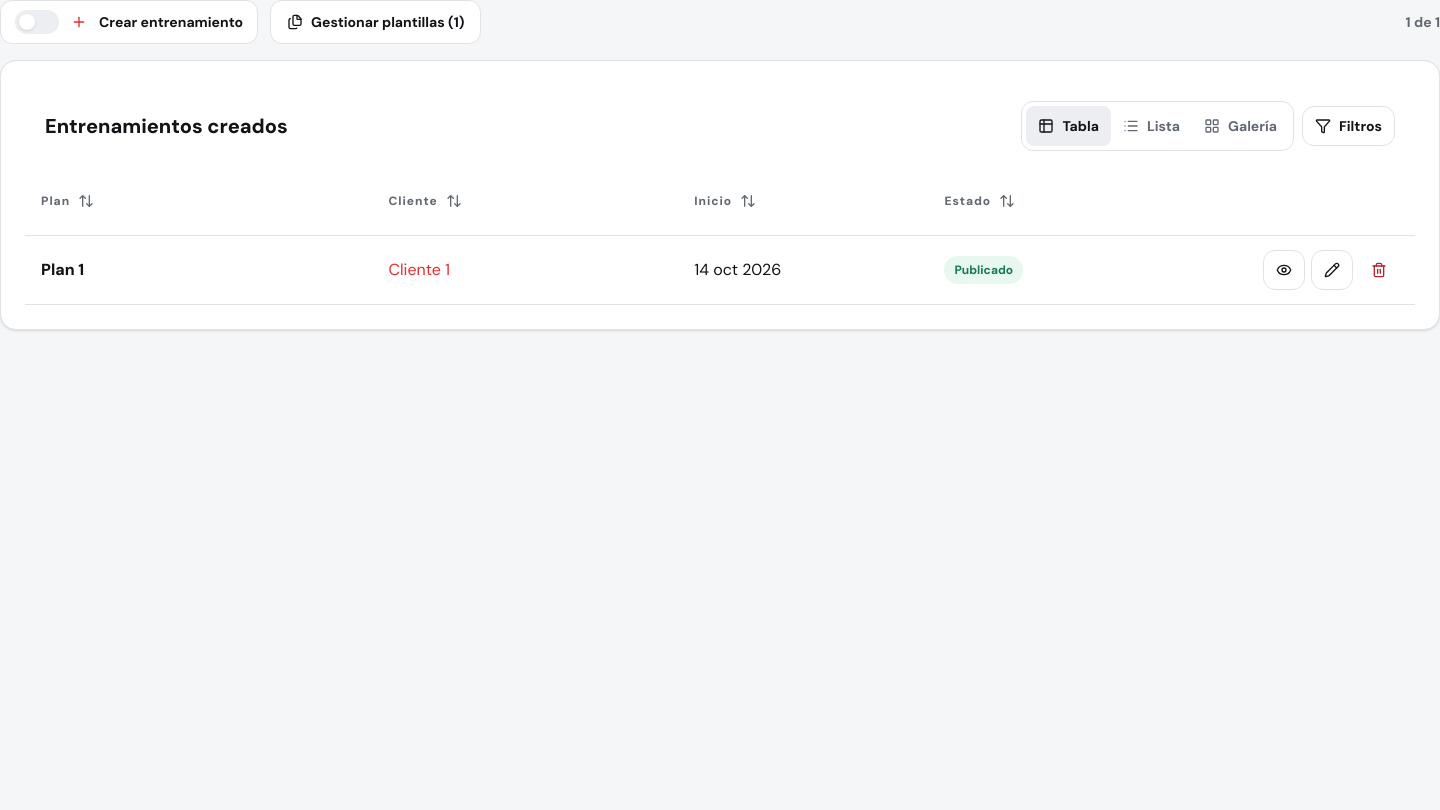
Scenario: AssignmentsManager › permite editar y eliminar las plantillas desde su biblioteca interna
Click the button "Gestionar plantillas (1)": click(376, 22) [270, 0, 482, 44]
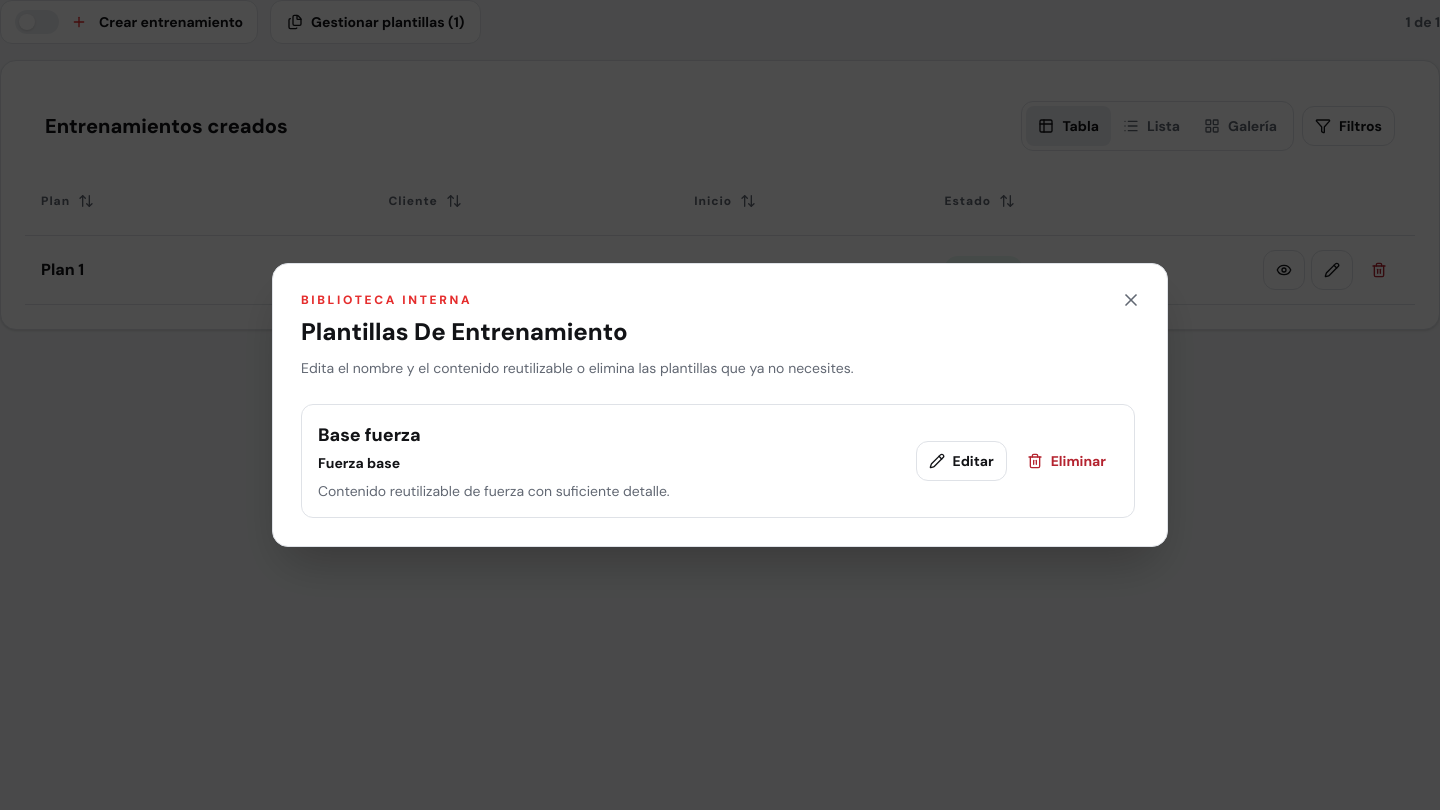
Expected: the dialog "plantillas de entrenamiento" shows "Base fuerza", [318, 423, 421, 447]
Click the button "Editar": click(961, 461) [916, 441, 1007, 481]
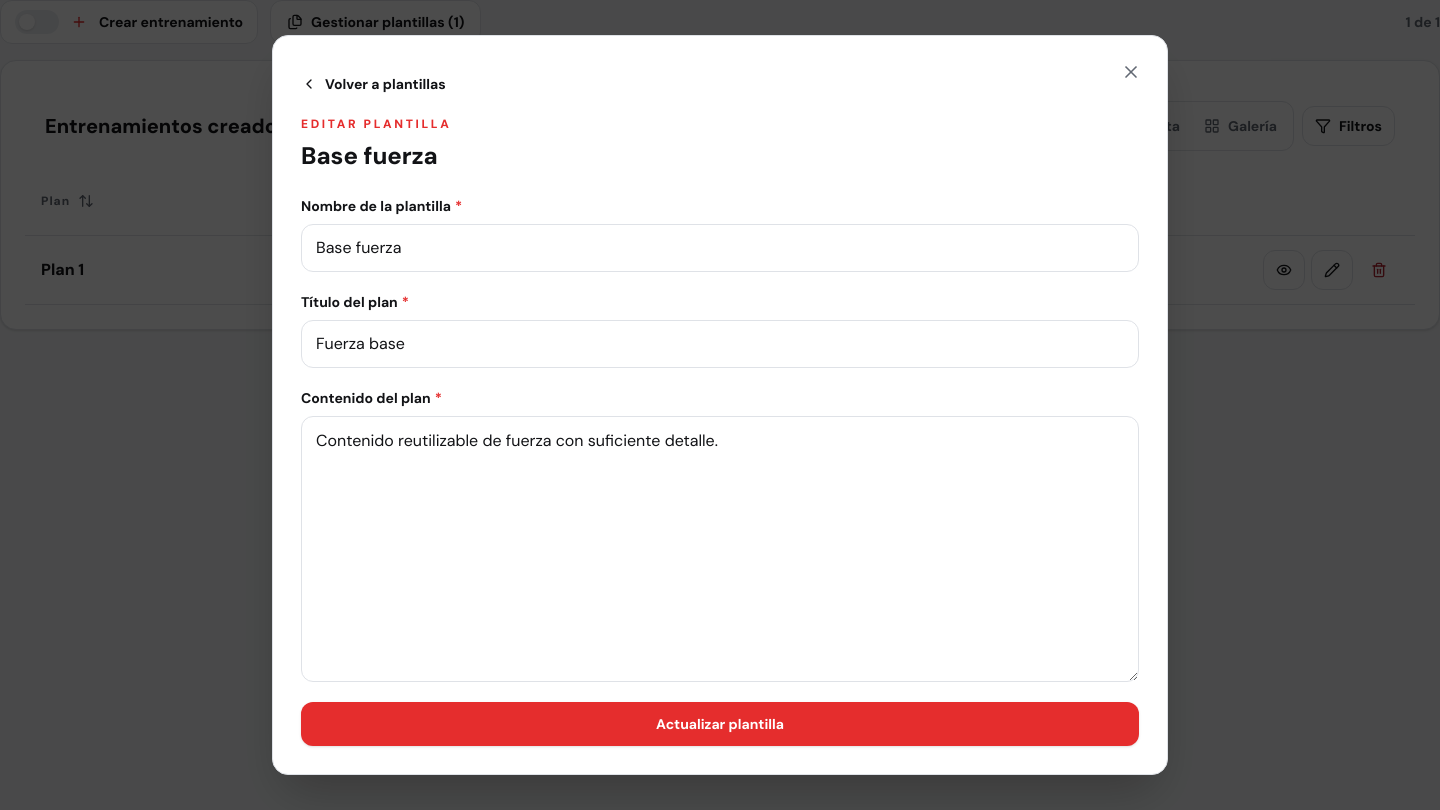
Expected: the dialog "Base fuerza" is shown, [272, 35, 1168, 775]
Expected: the field labelled "Nombre de la plantilla" holds "Base fuerza", [301, 224, 1139, 272]
Expected: the field labelled "Título del plan" holds "Fuerza base", [301, 320, 1139, 368]
Click the button "Volver a plantillas": click(373, 84) [301, 64, 446, 104]
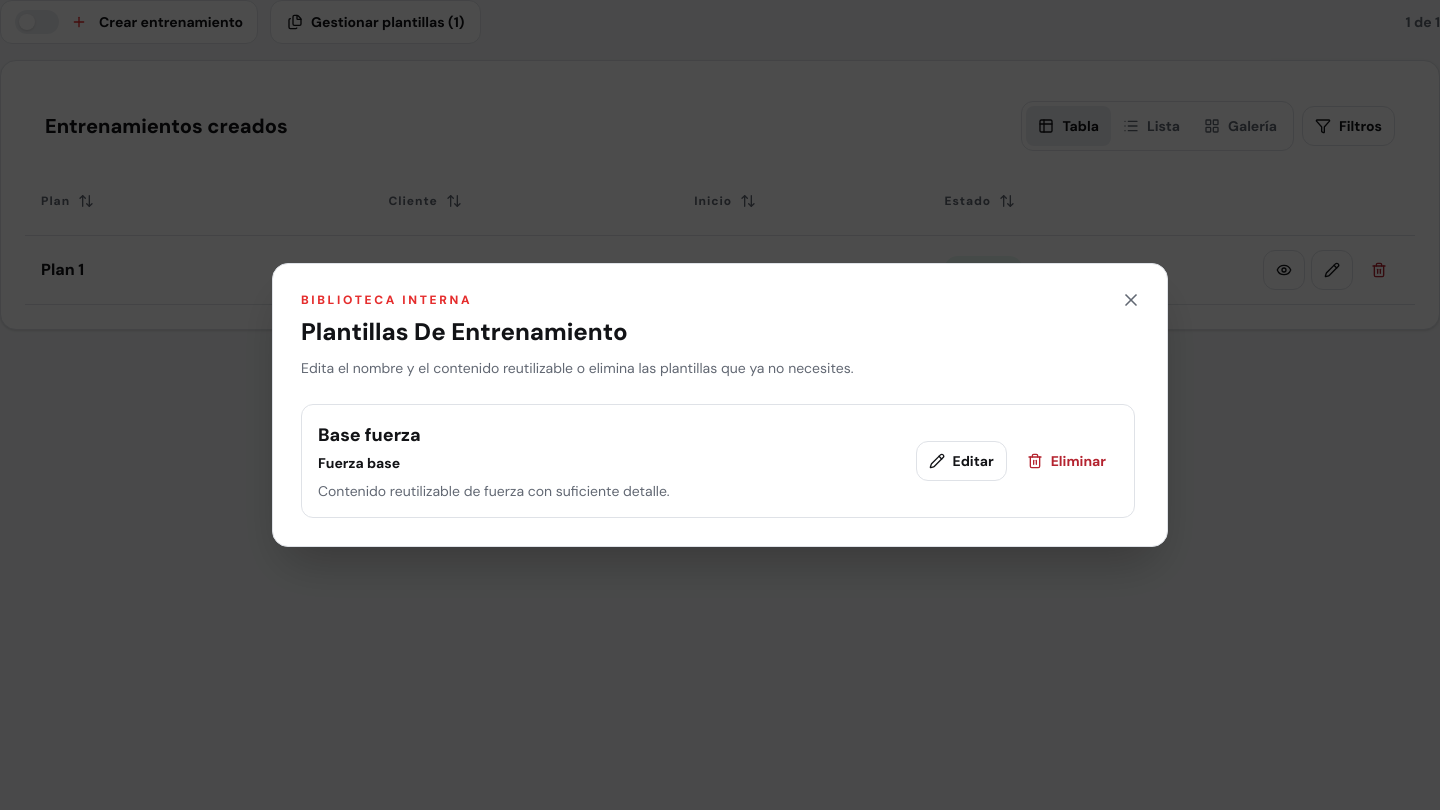
Click the button "Eliminar": click(1066, 461) [1015, 441, 1118, 481]
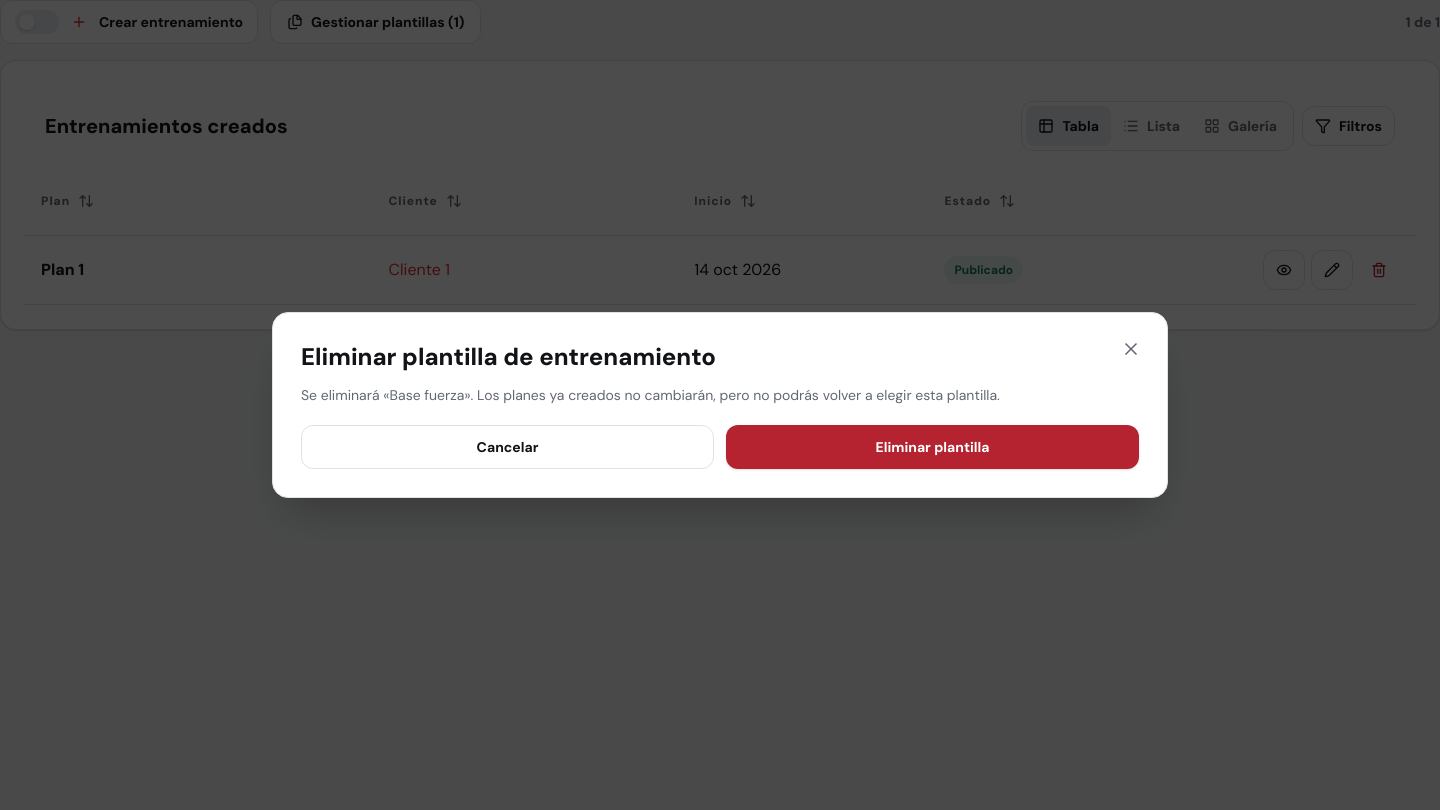
Expected: the dialog "Eliminar plantilla de entrenamiento" shows "Los planes ya creados no cambiarán", [464, 386, 1000, 404]
Expected: the button "Eliminar plantilla" is shown, [726, 425, 1139, 469]
